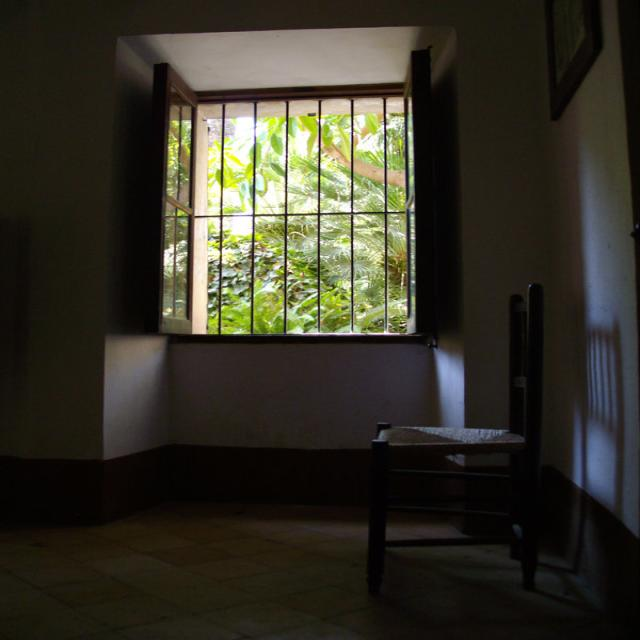chair: (335, 300, 585, 598)
